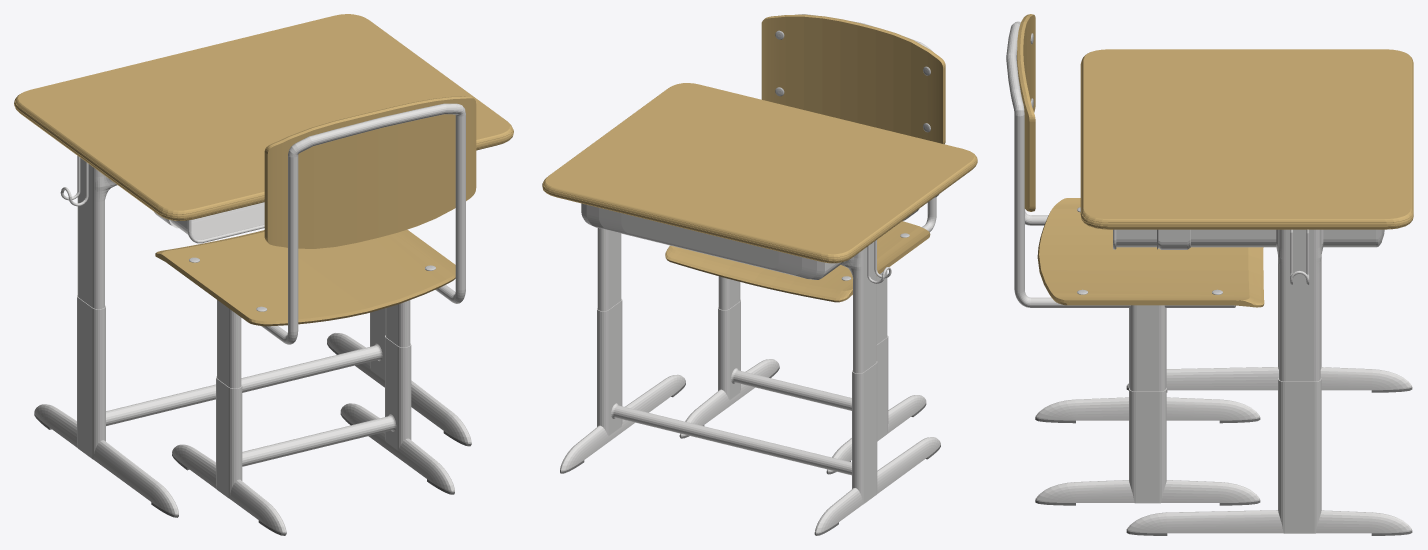
Rendered from ClassroomDesk.fbx.
3 views of the same model, side by side, from view 1: azimuth 30°, elevation 25°; view 2: azimuth 150°, elevation 25°; view 3: azimuth 270°, elevation 25° (orthographic). The views are drawn at different scales.
Visible parts, largest first — view 1: tsukue_top; view 2: tsukue_top; view 3: tsukue_top.
Boxes of the visible parts, box(x1,y1,x2,y2) form: tsukue_top: box(14, 14, 513, 535); tsukue_top: box(542, 14, 977, 535); tsukue_top: box(1006, 14, 1413, 535).
Size of the model in its own units: 108 by 120 by 108.
